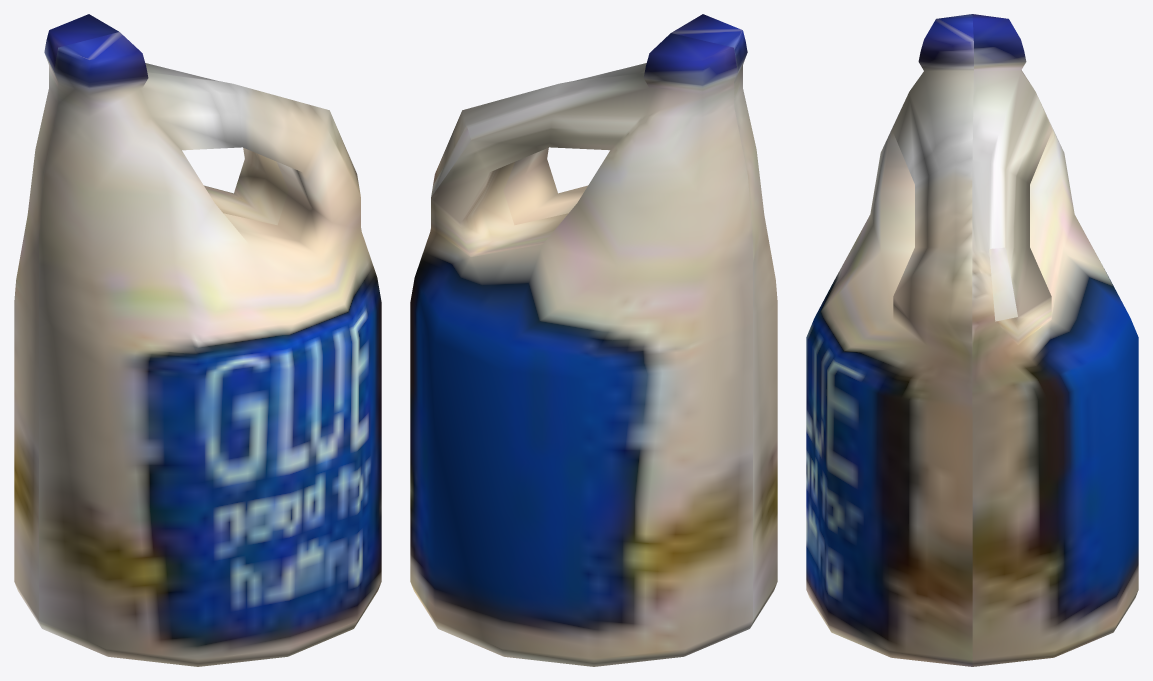
The model's file is wood_glue.FBX.
The picture shows the model from 3 angles, left to right: view 1: azimuth 30°, elevation 25°; view 2: azimuth 150°, elevation 25°; view 3: azimuth 270°, elevation 25°; orthographic projection. The views are drawn at different scales.
Visible parts, largest first — view 1: wood_glue; view 2: wood_glue; view 3: wood_glue.
Boxes of the visible parts, <box> form: wood_glue: <box>14,14,381,666</box>; wood_glue: <box>410,14,777,666</box>; wood_glue: <box>806,14,1138,666</box>.
Size of the model in its own units: 21.52 by 37.52 by 21.52.
